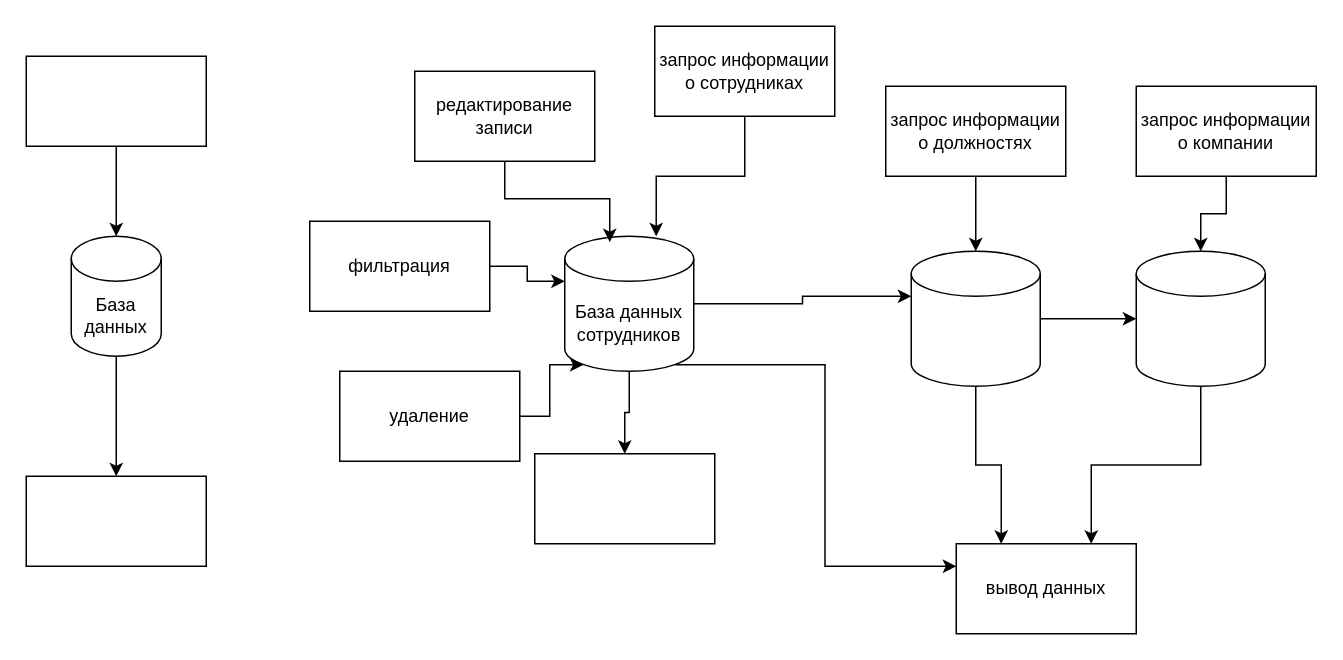
The diagram is 1343 pixels wide and 660 high, and some of its shapes have lost their labels. The centre of each missing label's shape, as x and y in pixels:
"База данных информации о должностях" belongs at (x=975, y=318).
"База данных информации о компании" belongs at (x=1200, y=318).
"Выход" belongs at (x=115, y=520).
"Информация о сотрудниках" belongs at (x=115, y=100).
"получение измененного списка" belongs at (x=624, y=498).
